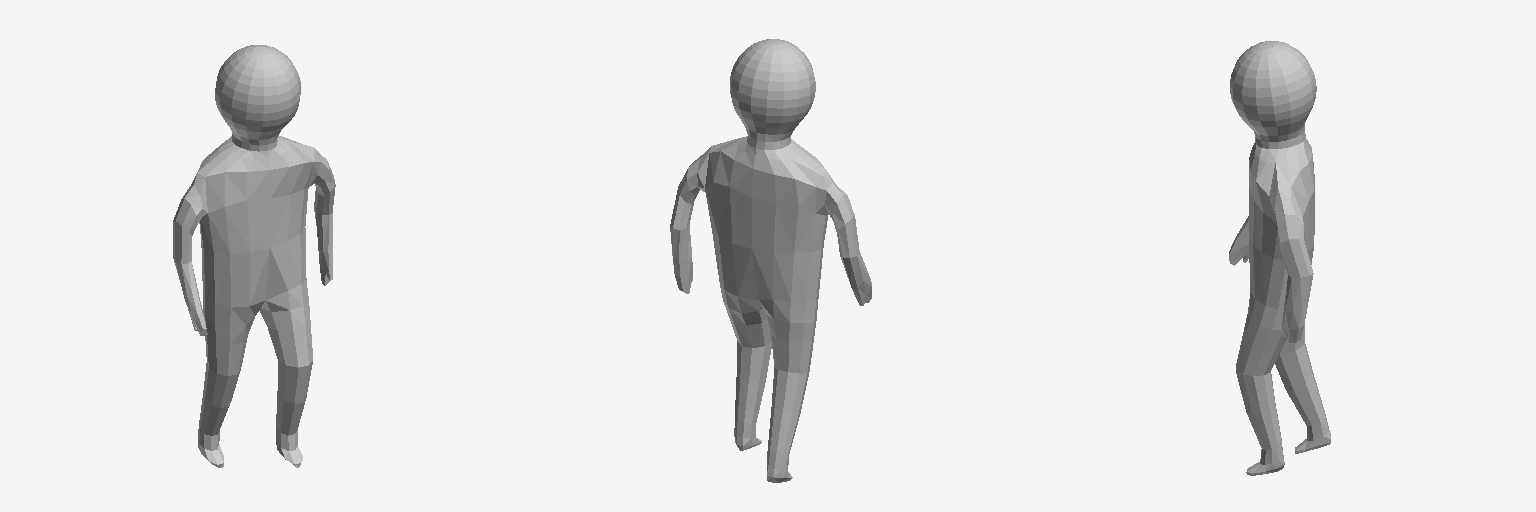
File: Czlowiek106.obj
3 views of the same model, side by side, from view 1: azimuth 30°, elevation 25°; view 2: azimuth 150°, elevation 25°; view 3: azimuth 270°, elevation 25° (orthographic).
Parts seen in each view (by area): view 1: Sphere.001; view 2: Sphere.001; view 3: Sphere.001.
Boxes of the visible parts, box(x1,y1,x2,y2) form: Sphere.001: box(173, 45, 335, 467); Sphere.001: box(670, 39, 871, 482); Sphere.001: box(1229, 41, 1330, 475).
Bounding box in the file's own units: 1.76 × 4.19 × 0.9262.